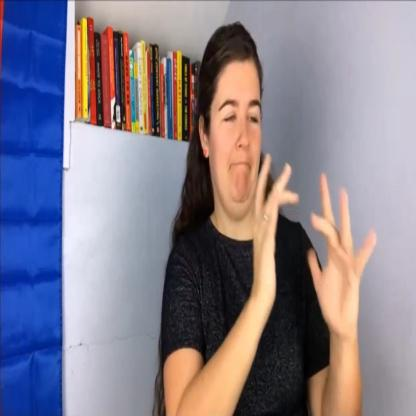Internet: (246, 137, 380, 354)
